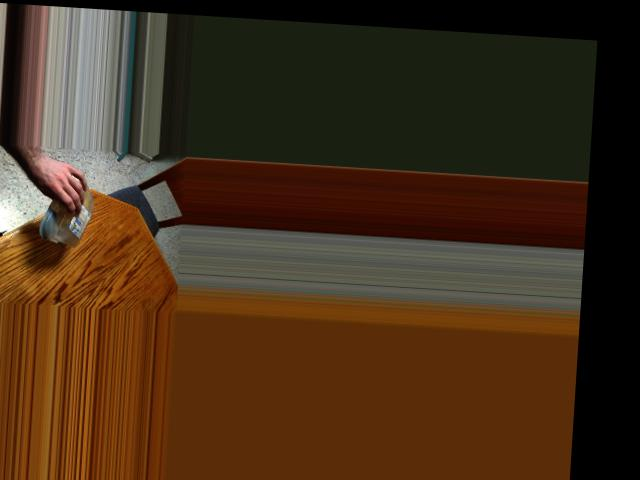cheese: (46, 185, 91, 240)
